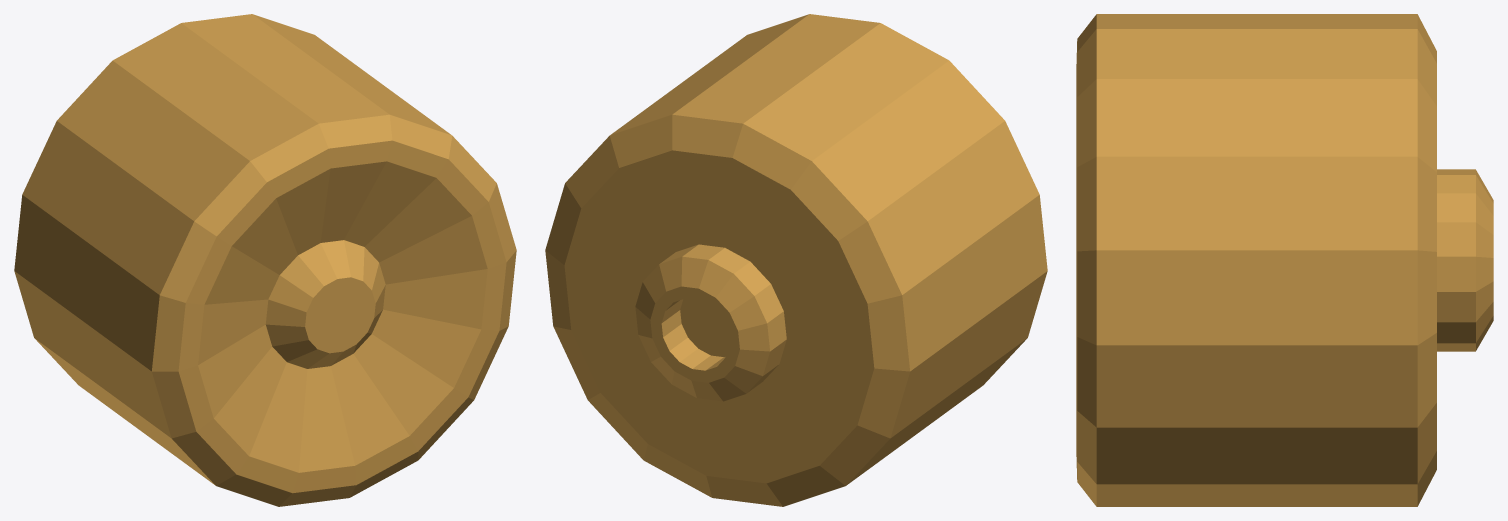
File: rover-wheel.glb
The picture shows the model from 3 angles, left to right: view 1: azimuth 30°, elevation 25°; view 2: azimuth 150°, elevation 25°; view 3: azimuth 270°, elevation 25°; orthographic projection. The views are drawn at different scales.
Size of the model in its own units: 0.2018 by 0.2018 by 0.1712.
